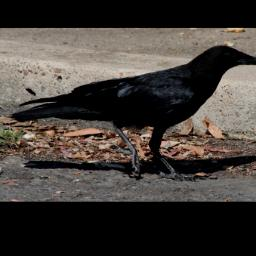Crow: (11, 43, 256, 180)
